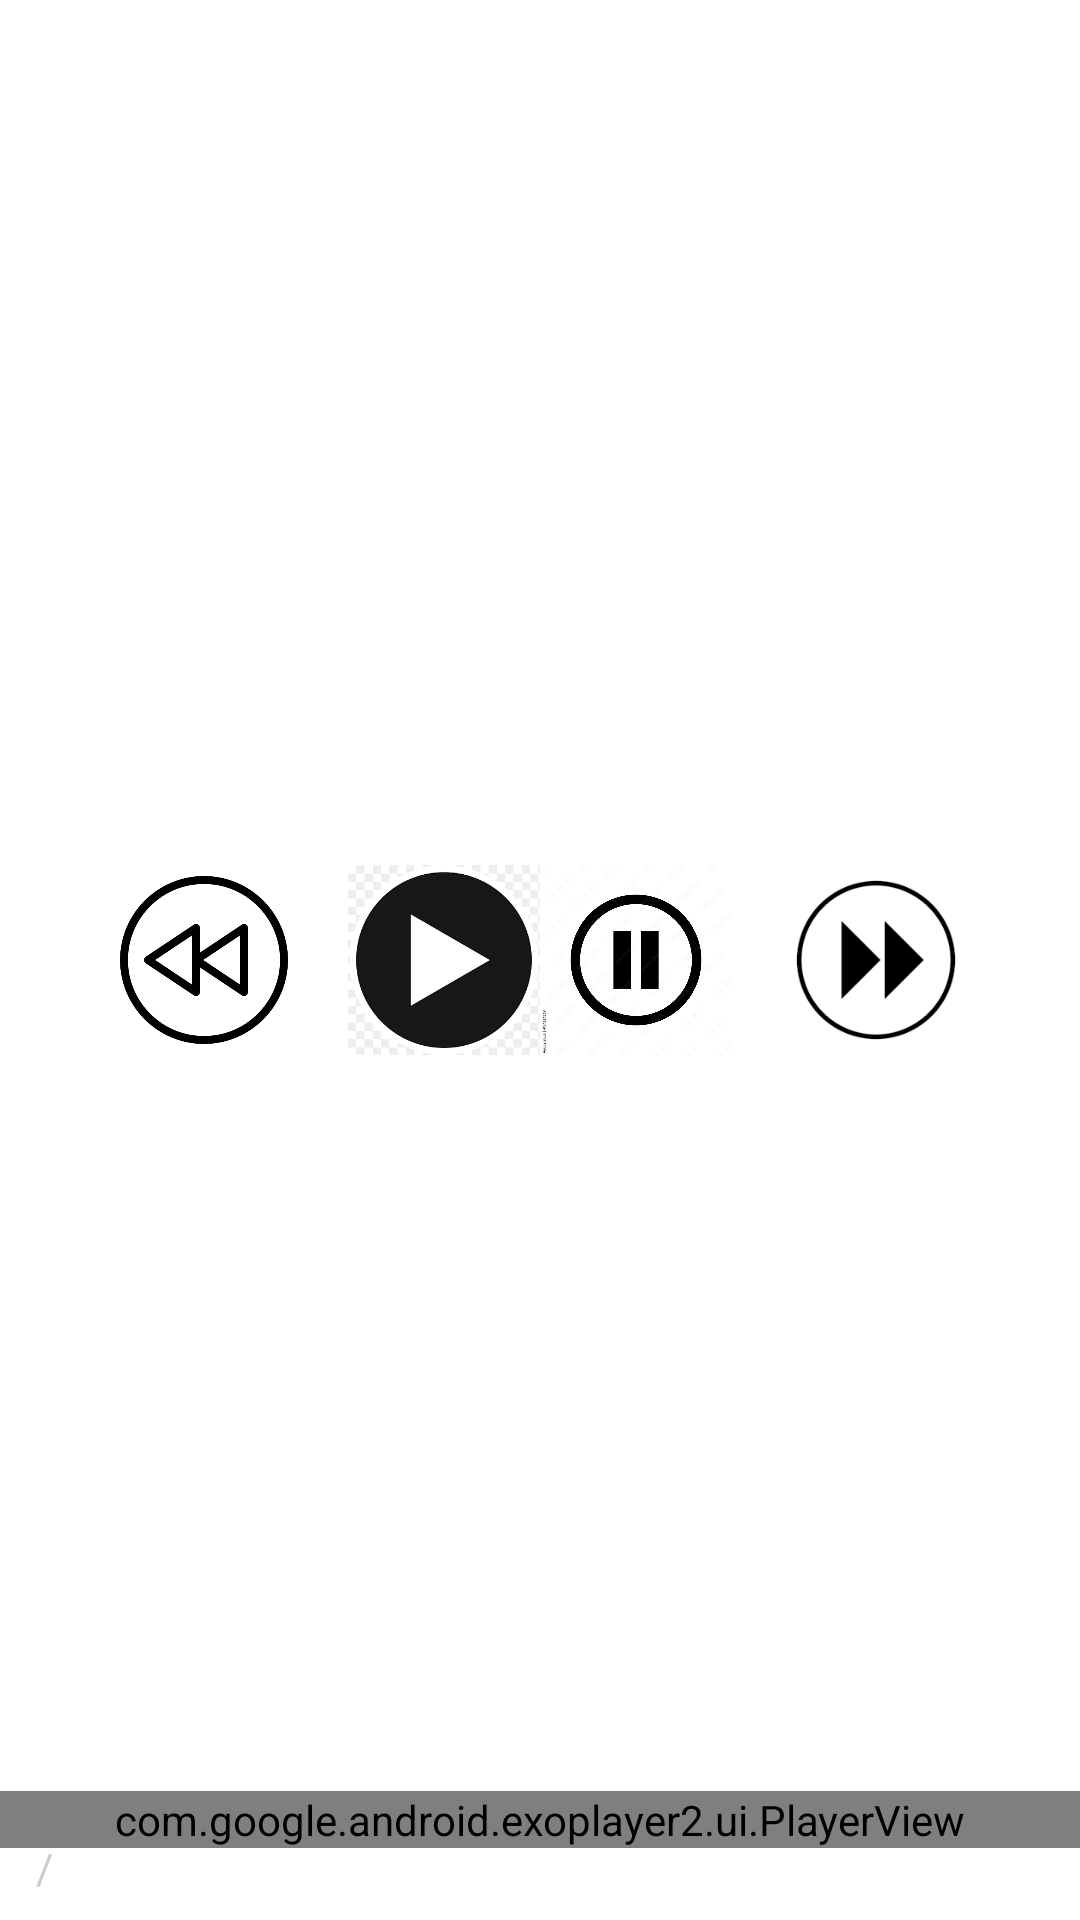

Icons on this 1080px x 1920px Android screen, each with its box as (x1, y1, x2, y2):
backward: (120, 876, 288, 1044)
forward: (796, 880, 956, 1040)
pause: (542, 894, 702, 1053)
play: (356, 872, 532, 1048)
